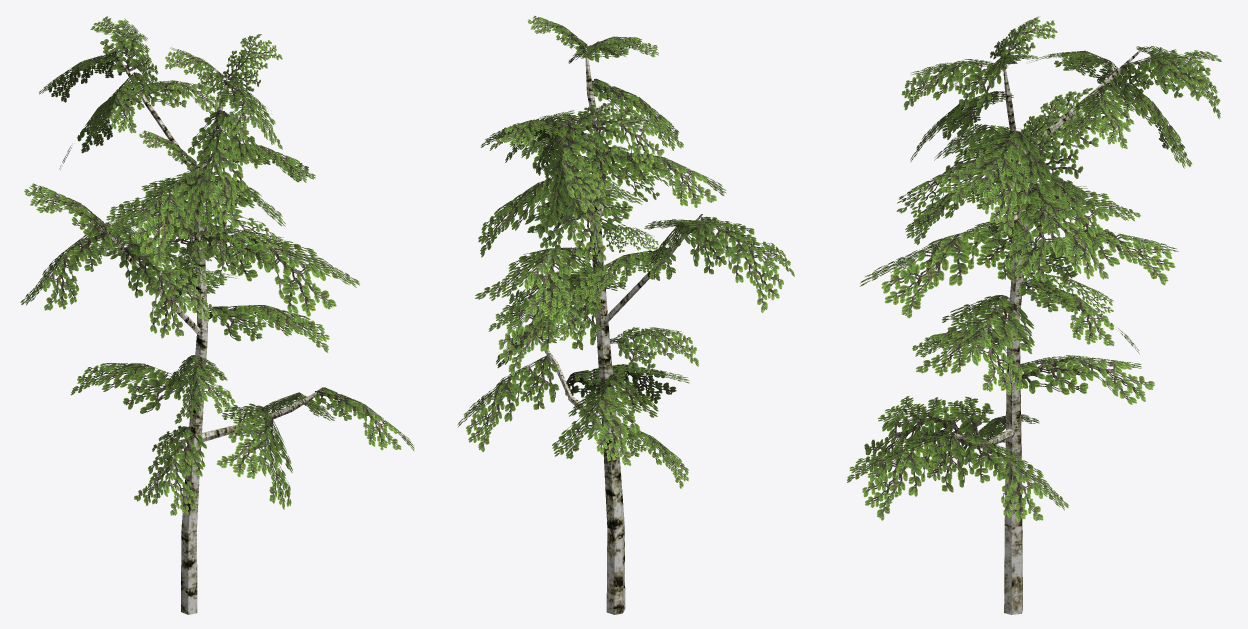
File: flora_tree_euro_birch_v2.glb
3 views of the same model, side by side, from view 1: azimuth 30°, elevation 25°; view 2: azimuth 150°, elevation 25°; view 3: azimuth 270°, elevation 25° (orthographic). The views are drawn at different scales.
Visible parts, largest first — view 1: flora_tree_euro_birch_v2_part0; view 2: flora_tree_euro_birch_v2_part0; view 3: flora_tree_euro_birch_v2_part0.
Boxes of the visible parts, x1,y1,x2,y2 form: flora_tree_euro_birch_v2_part0: (20,16,414,614); flora_tree_euro_birch_v2_part0: (457,15,794,614); flora_tree_euro_birch_v2_part0: (847,16,1221,614).
Size of the model in its own units: 11.2 by 18.1 by 11.06.
1 material, 1 textured.
